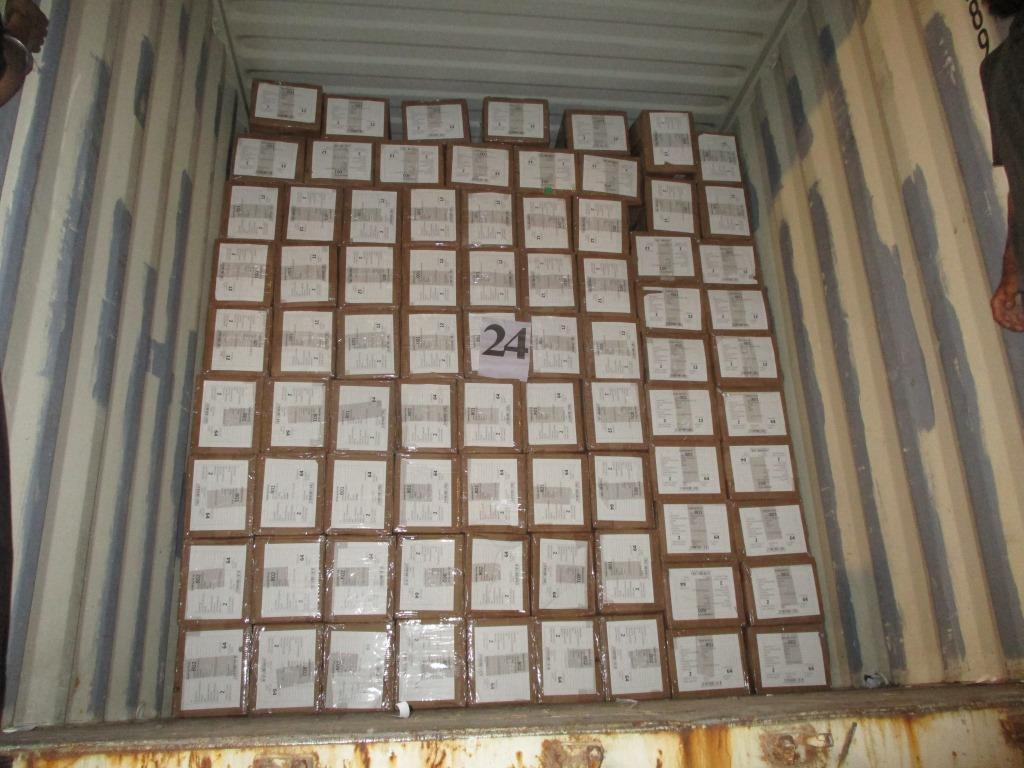carton: (172, 625, 250, 717), (250, 622, 323, 713), (250, 535, 325, 623), (179, 537, 254, 624), (394, 618, 466, 708), (322, 623, 395, 710), (598, 613, 670, 700), (323, 535, 394, 622), (466, 617, 536, 705), (188, 374, 265, 454), (594, 529, 665, 614), (534, 617, 604, 703), (183, 454, 255, 537), (253, 452, 325, 535), (394, 533, 463, 618), (666, 626, 748, 697), (745, 623, 828, 693), (324, 452, 393, 535), (662, 561, 747, 628), (529, 532, 596, 617), (740, 556, 822, 624), (464, 532, 529, 617), (393, 453, 460, 533), (260, 378, 330, 453), (524, 453, 590, 532), (460, 453, 526, 532), (587, 451, 654, 528), (656, 499, 736, 562), (329, 379, 396, 453), (202, 305, 271, 376), (729, 500, 809, 561), (457, 379, 522, 452), (581, 381, 648, 450), (271, 306, 337, 376), (336, 306, 400, 377), (649, 441, 727, 499), (396, 377, 457, 451), (643, 383, 720, 441), (523, 379, 584, 452), (630, 110, 698, 174), (723, 441, 798, 499), (210, 240, 274, 307), (401, 309, 463, 378), (272, 242, 338, 306), (580, 314, 643, 380), (463, 310, 523, 379), (228, 131, 304, 184), (524, 312, 584, 379), (248, 80, 323, 133), (219, 180, 283, 242), (718, 386, 790, 440), (709, 333, 782, 386), (634, 280, 707, 333), (338, 245, 400, 307), (460, 246, 520, 309), (519, 251, 579, 314), (281, 184, 343, 244), (402, 246, 461, 309), (628, 232, 700, 283), (641, 331, 713, 382), (577, 253, 636, 315), (575, 151, 642, 204), (303, 137, 374, 187), (643, 174, 700, 235), (444, 142, 513, 192), (402, 187, 461, 245), (342, 186, 401, 244), (480, 96, 550, 144), (373, 139, 443, 187), (559, 109, 630, 156), (516, 192, 572, 251), (572, 196, 628, 255), (513, 143, 577, 194), (697, 180, 752, 239), (704, 286, 770, 334), (460, 189, 516, 245), (400, 98, 472, 141), (322, 94, 389, 139), (698, 237, 759, 284), (694, 130, 742, 184)
